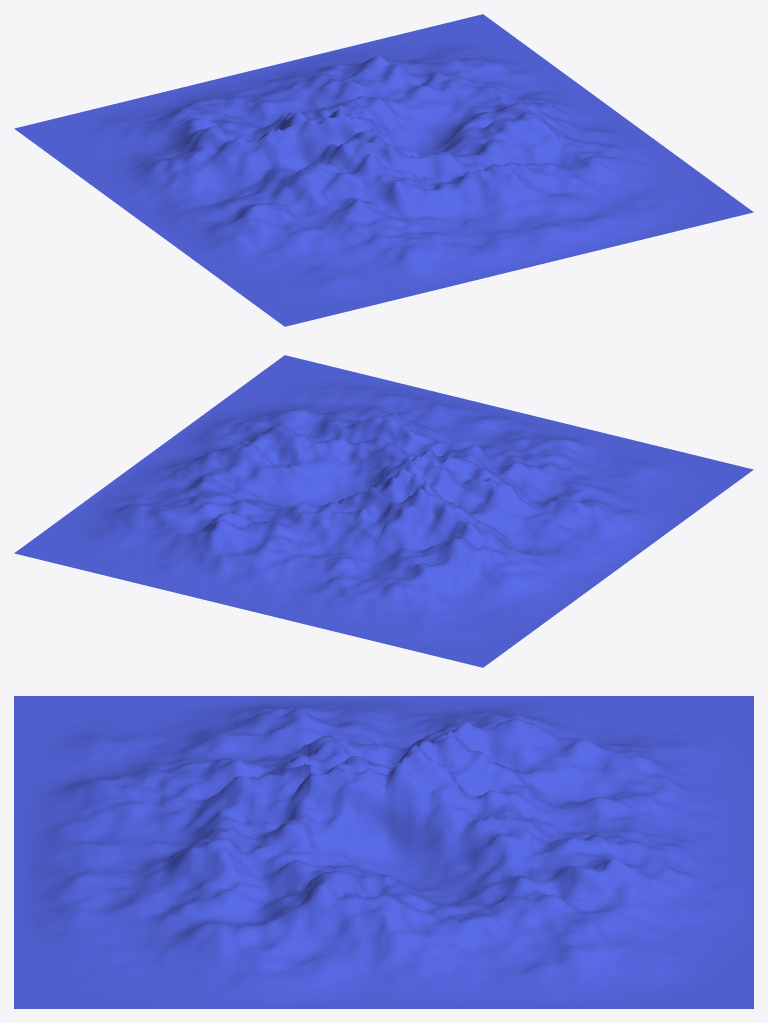
File: terrarain2.glb
3 renders of one model, top to bottom at view 1: azimuth 30°, elevation 25°; view 2: azimuth 150°, elevation 25°; view 3: azimuth 270°, elevation 25°, orthographic. The views are drawn at different scales.
Visible parts, largest first — view 1: Landscape.002; view 2: Landscape.002; view 3: Landscape.002.
Part boxes in pixels (left/top/right/bottom): Landscape.002: left=14, top=14, right=753, bottom=326; Landscape.002: left=14, top=355, right=753, bottom=667; Landscape.002: left=14, top=696, right=753, bottom=1008.
Size of the model in its own units: 1148 by 142 by 1148.
